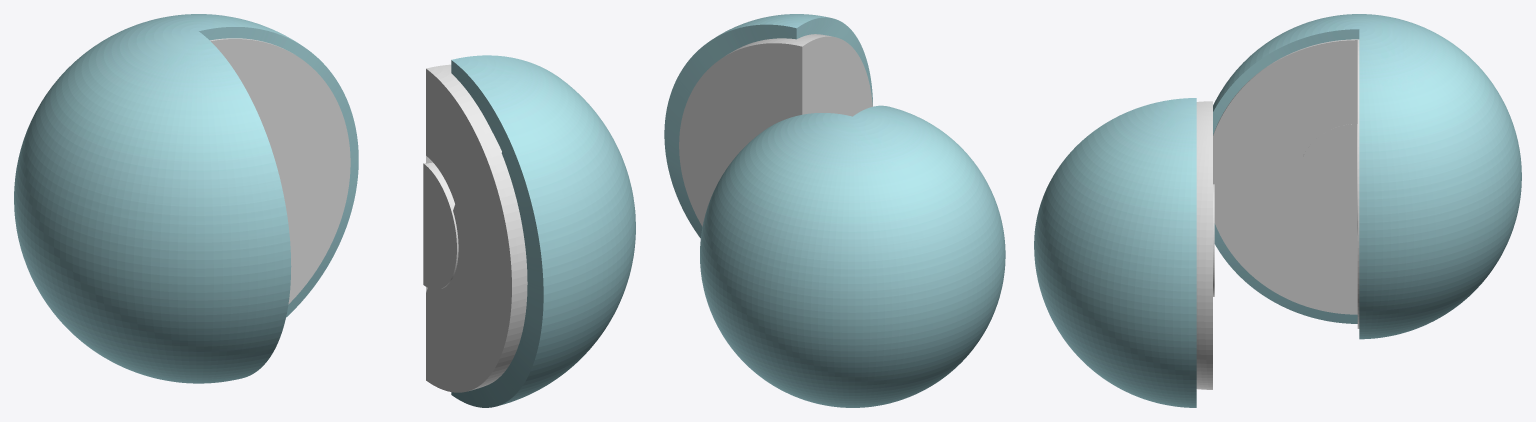
File: uranus.fbx
3 views of the same model, side by side, from view 1: azimuth 30°, elevation 25°; view 2: azimuth 150°, elevation 25°; view 3: azimuth 270°, elevation 25° (orthographic). The views are drawn at different scales.
Parts seen in each view (by area): view 1: merkurius, Sphere.001, Sphere.008, liquid metalic hydrogen, core; view 2: merkurius, Sphere.008, Sphere.001; view 3: merkurius, Sphere.001, liquid metalic hydrogen, core.001, Sphere.008.
Boxes of the visible parts, bbox=[...] form: merkurius: bbox=[14, 14, 358, 383]; Sphere.001: bbox=[451, 55, 635, 407]; Sphere.008: bbox=[426, 64, 527, 392]; liquid metalic hydrogen: bbox=[210, 38, 350, 304]; core: bbox=[423, 162, 458, 289]; merkurius: bbox=[700, 105, 1005, 407]; Sphere.008: bbox=[679, 34, 872, 226]; Sphere.001: bbox=[664, 14, 872, 238]; merkurius: bbox=[1213, 14, 1521, 339]; Sphere.001: bbox=[1034, 98, 1196, 407]; liquid metalic hydrogen: bbox=[1213, 39, 1359, 328]; core.001: bbox=[1298, 124, 1357, 236]; Sphere.008: bbox=[1196, 101, 1212, 389].
Bounding box in the file's own units: 300 × 200 × 300.
4 materials, 2 textured.
